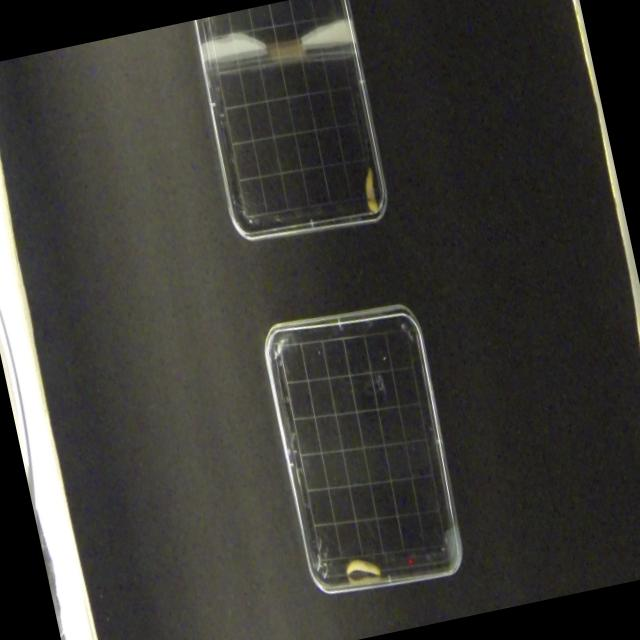larva: (340, 550, 382, 582), (358, 164, 384, 215)
